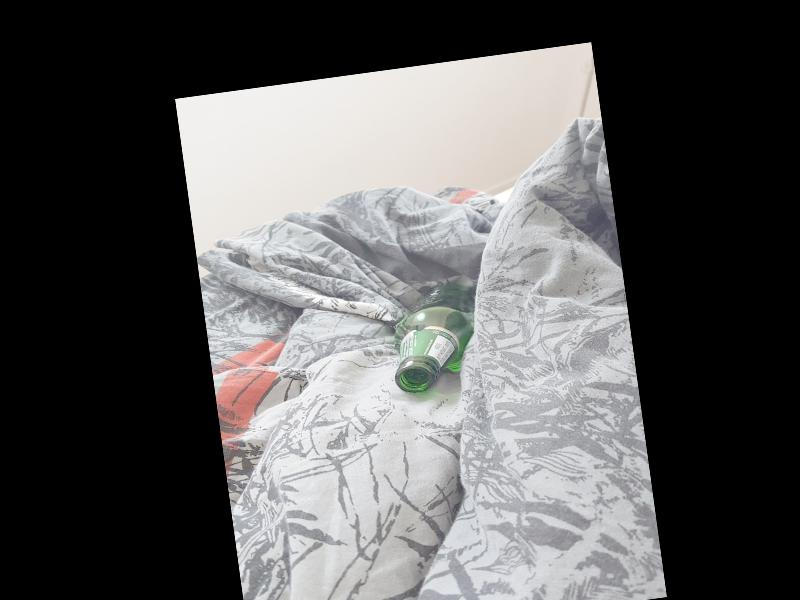Beer: (386, 283, 480, 395)
